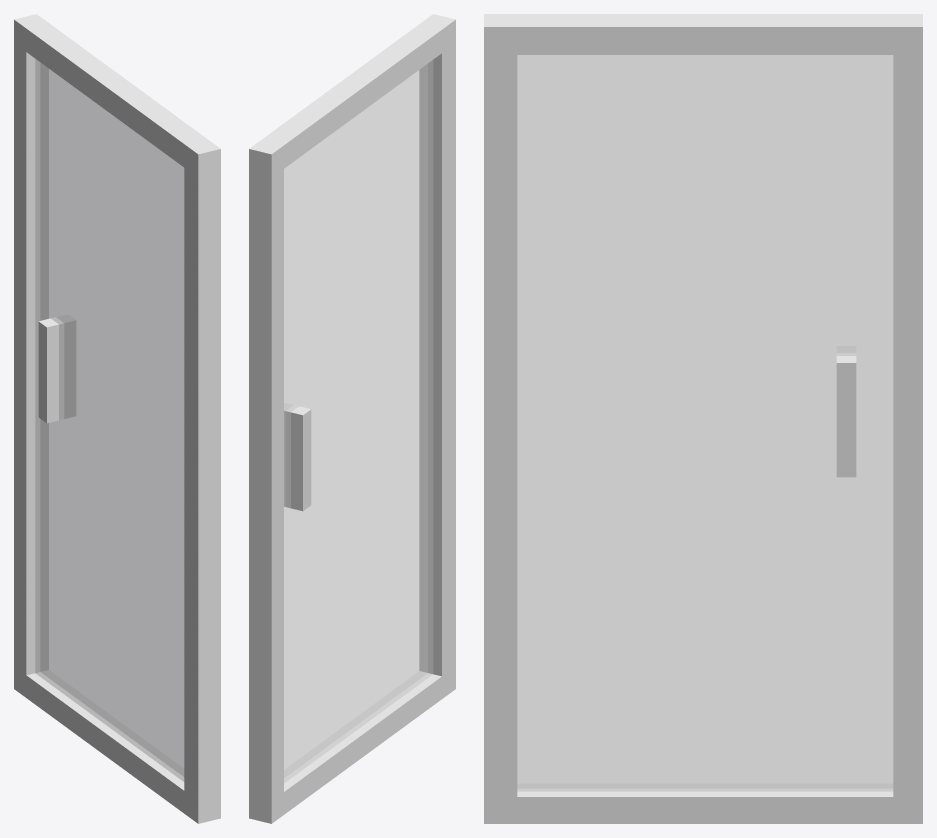
File: Door.fbx
3 renders of one model, left to right at view 1: azimuth 30°, elevation 25°; view 2: azimuth 150°, elevation 25°; view 3: azimuth 270°, elevation 25°, orthographic. The views are drawn at different scales.
Parts seen in each view (by area): view 1: DoorWindow, DoorFrame; view 2: DoorWindow, DoorFrame; view 3: DoorWindow, DoorFrame.
Boxes of the visible parts, x1,y1,x2,y2 form: DoorWindow: [35, 59, 184, 781]; DoorFrame: [14, 14, 220, 823]; DoorWindow: [284, 60, 432, 782]; DoorFrame: [249, 14, 455, 823]; DoorWindow: [517, 55, 893, 791]; DoorFrame: [484, 14, 922, 823].
Size of the model in its own units: 27.78 by 602 by 300.
